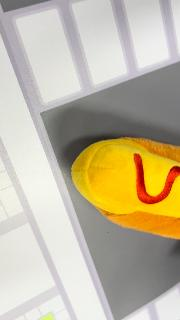hotdog: (70, 136, 180, 240)
